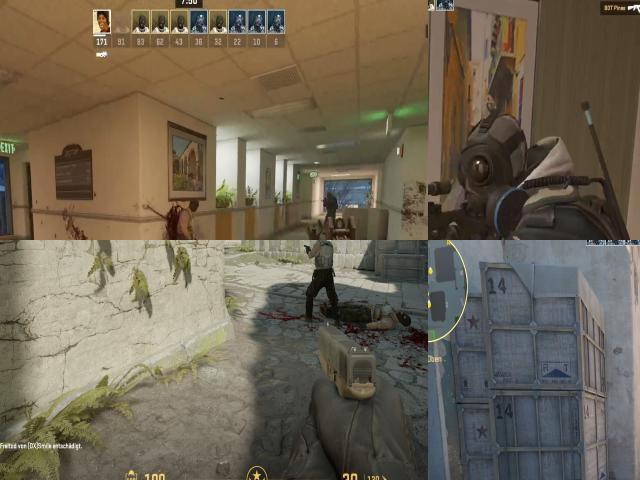CT: (464, 105, 633, 240), (324, 191, 338, 214)
CT-Head: (450, 106, 535, 224), (326, 191, 334, 201)
Dead: (325, 294, 412, 336), (174, 197, 205, 240)
T: (308, 240, 336, 327)
